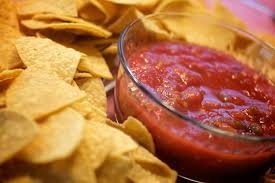sandwich: (119, 7, 275, 144)
